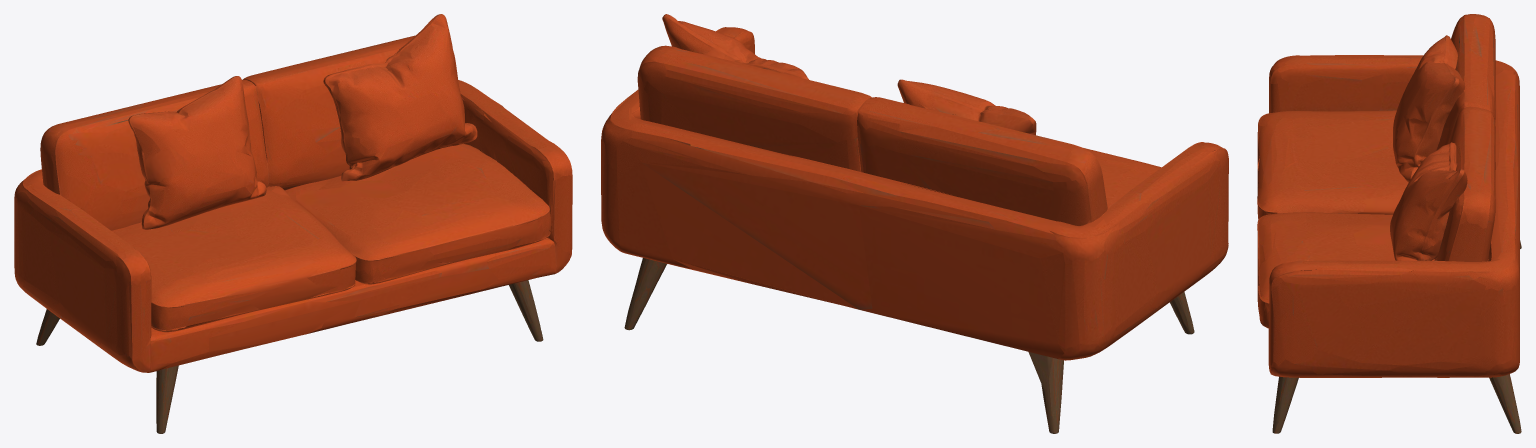
Rendered from sofa.glb.
3 views of the same model, side by side, from view 1: azimuth 30°, elevation 25°; view 2: azimuth 150°, elevation 25°; view 3: azimuth 270°, elevation 25° (orthographic). The views are drawn at different scales.
Bounding box in the file's own units: 1.9 × 1.05 × 0.9693.
1 material, 1 textured.
